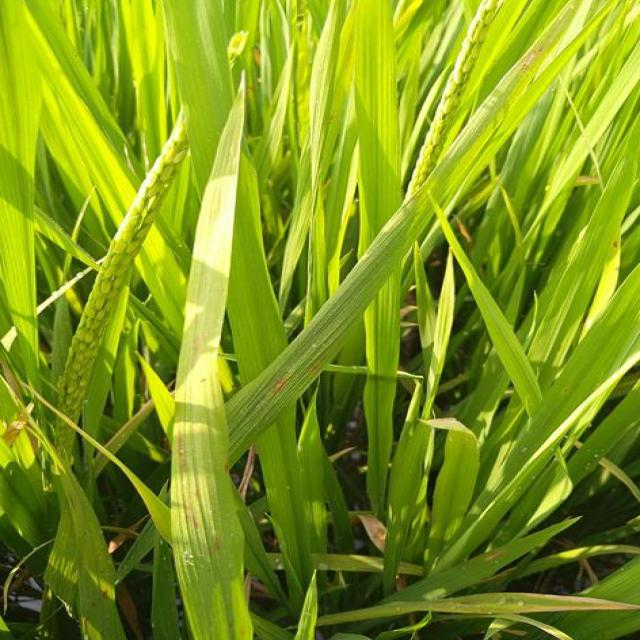Leaf Streak: (422, 593, 640, 618), (174, 432, 205, 548), (267, 373, 294, 401), (209, 533, 221, 561), (308, 362, 323, 375)
